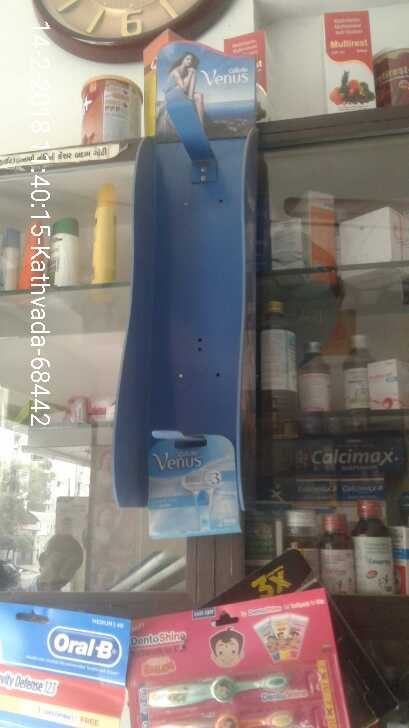venus: (142, 425, 238, 535)
